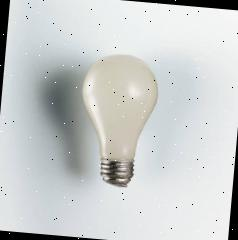lightbulb: (73, 50, 161, 190)
